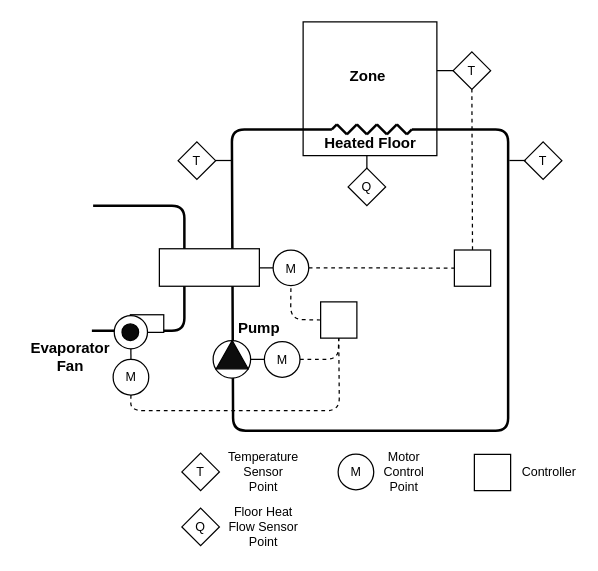
Some shapes in this 598 by 571 pixel diagram are drawn without their labels. The shapes that lost their labels are listed below. From the top down, each one's centre as x and y in pixels, then its label:
At point (208, 267): "Air-Water Heat Pump".
At point (472, 267): "C1".
At point (338, 319): "C2".
